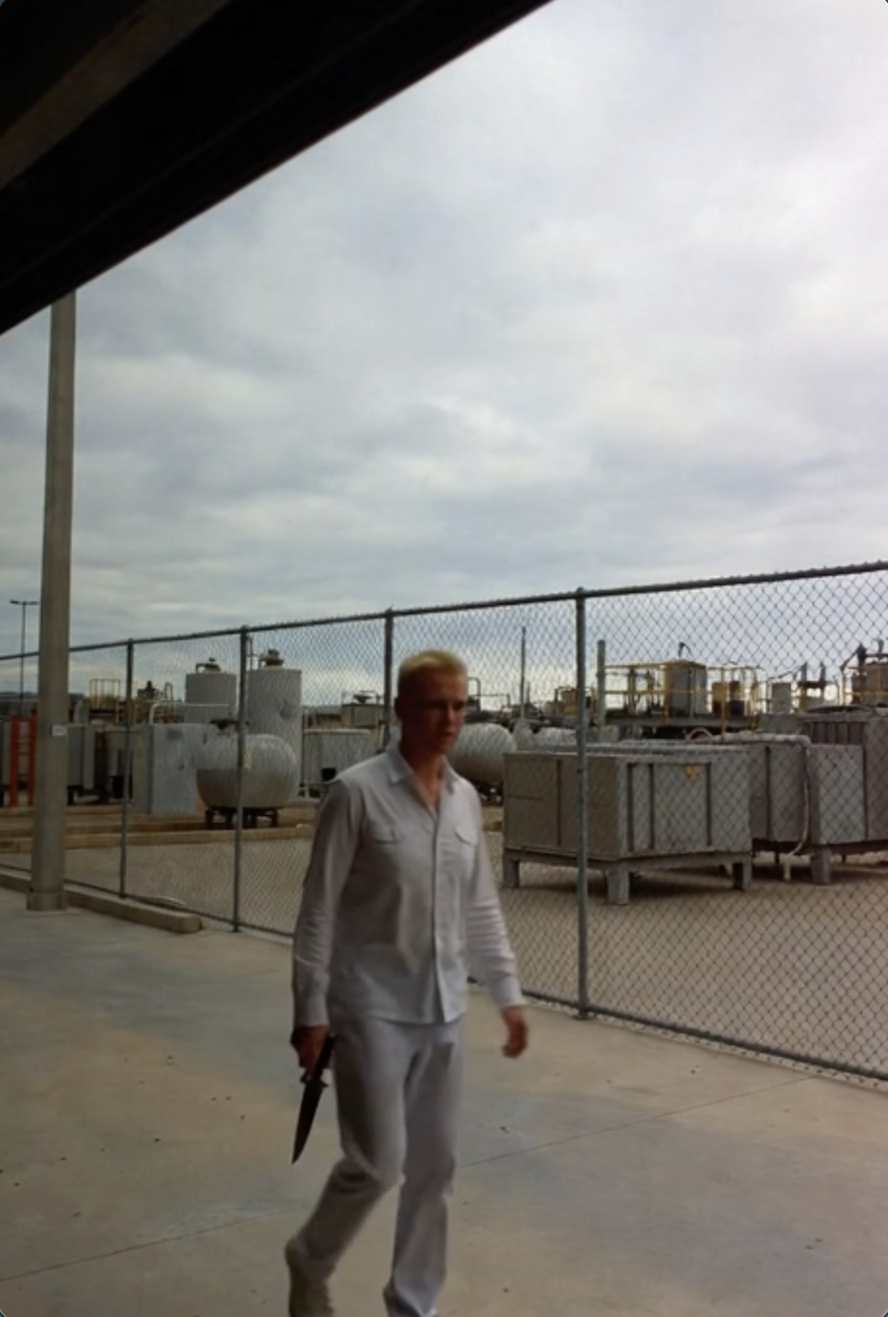Heavy Gun: (273, 641, 535, 1317)
Knife: (282, 1017, 344, 1174)
